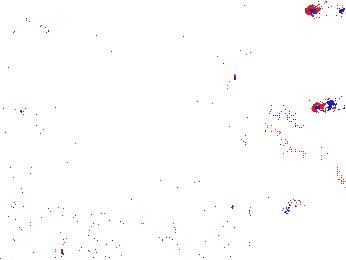X-ray fish: (45, 193, 109, 235), (1, 74, 35, 110)
red belly glassfish: (304, 1, 346, 21), (310, 96, 346, 115)
